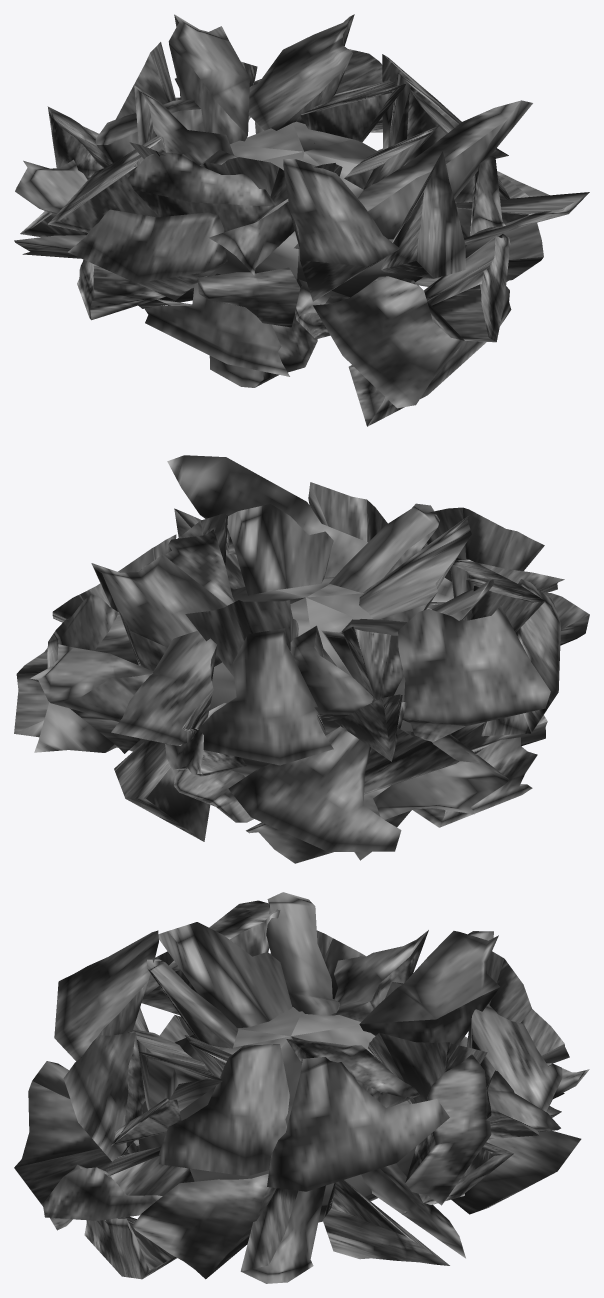
The model's file is Qliphoth_Stone.fbx.
3 views of the same model, one above another, from view 1: azimuth 30°, elevation 25°; view 2: azimuth 150°, elevation 25°; view 3: azimuth 270°, elevation 25° (orthographic). The views are drawn at different scales.
Visible parts, largest first — view 1: LOD_1_Group_4_Sub_1__Stone; view 2: LOD_1_Group_4_Sub_1__Stone; view 3: LOD_1_Group_4_Sub_1__Stone.
Part boxes in pixels (left/top/right/bottom): LOD_1_Group_4_Sub_1__Stone: left=14, top=14, right=589, bottom=426; LOD_1_Group_4_Sub_1__Stone: left=14, top=455, right=589, bottom=863; LOD_1_Group_4_Sub_1__Stone: left=14, top=892, right=589, bottom=1283.
Bounding box in the file's own units: 329 × 179 × 313.
Materials: 1 (1 with a texture image).
